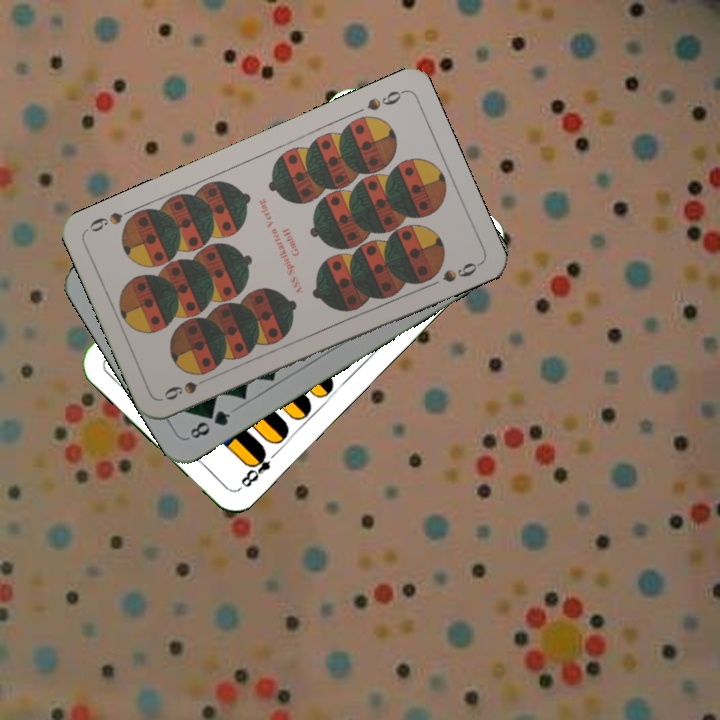E8: (236, 444, 281, 490)
G8: (184, 406, 234, 442)
S9: (160, 372, 215, 403), (363, 86, 407, 114)
